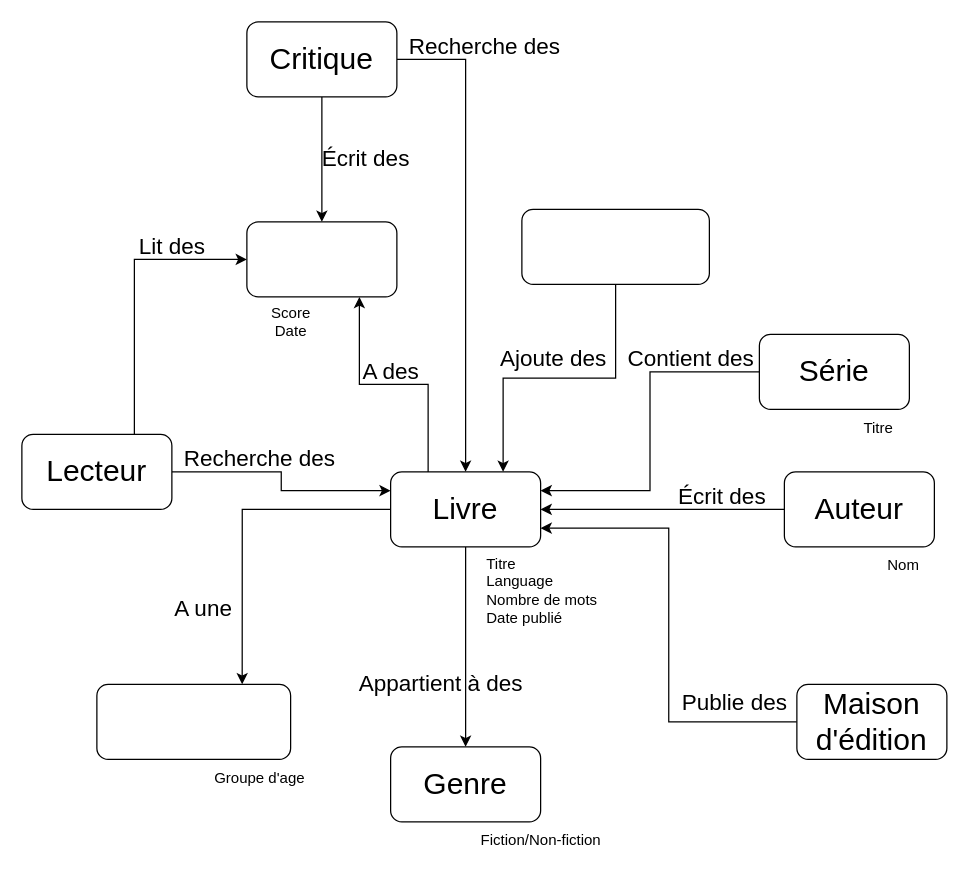
The diagram is 969 pixels wide and 881 high, and some of its shapes have lost their labels. The shapes that lost their labels are listed below. From the top down, each one's centre as x and y in pixels, then its label:
At pixel 321 259: "Avis".
At pixel 615 246: "Contributeur".
At pixel 193 721: "Classification".
